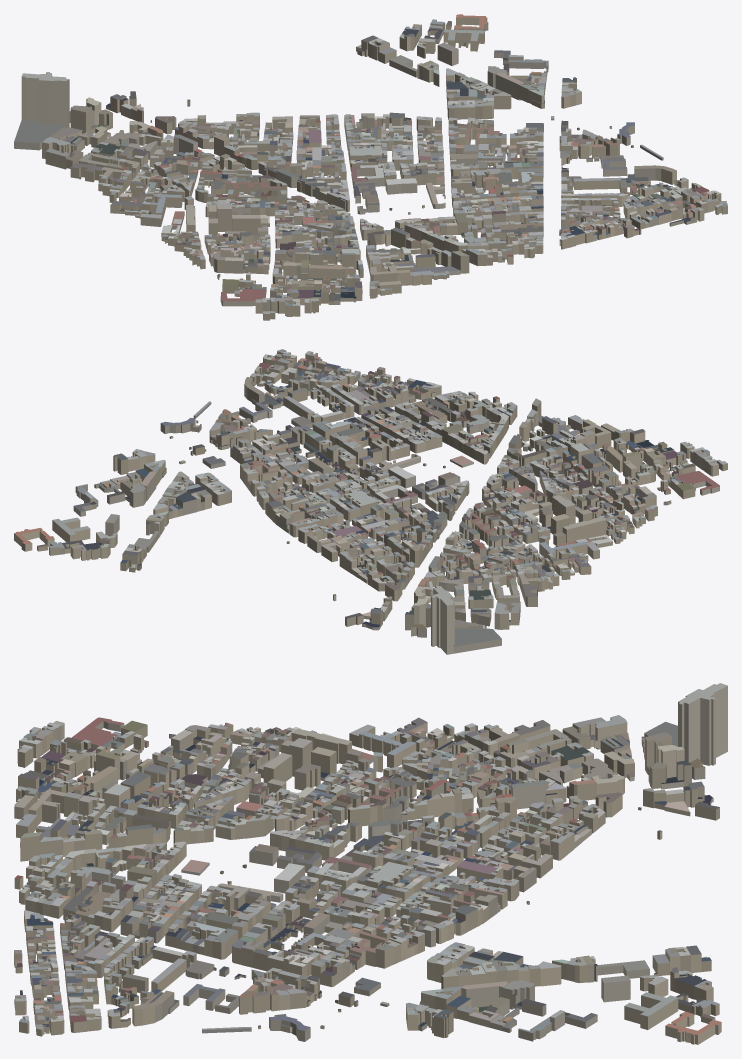
3 renders of one model, top to bottom at view 1: azimuth 30°, elevation 25°; view 2: azimuth 150°, elevation 25°; view 3: azimuth 270°, elevation 25°, orthographic. The views are drawn at different scales.
Parts seen in each view (by area): view 1: tuile; view 2: tuile; view 3: tuile.
Boxes of the visible parts, <box> form: tuile: <box>14,14,727,320</box>; tuile: <box>14,349,727,654</box>; tuile: <box>14,683,727,1044</box>.
Size of the model in its own units: 1075 by 109 by 1027.
